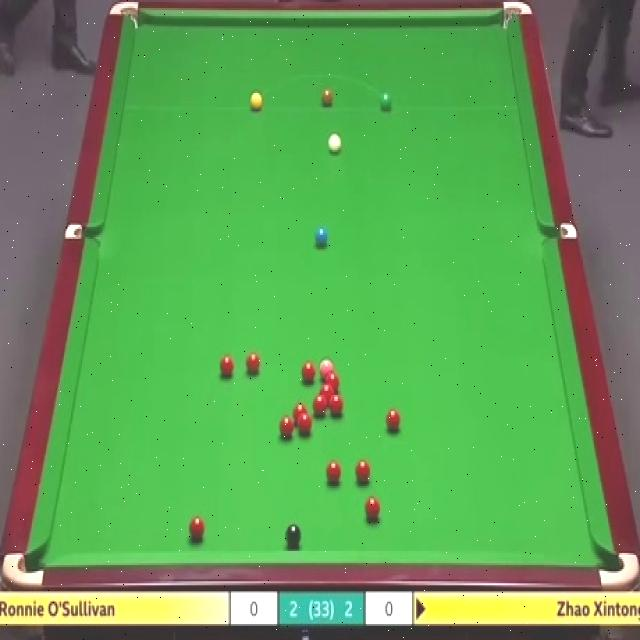black-ball: (284, 521, 302, 545)
blue-ball: (314, 228, 328, 245)
brown-ball: (322, 88, 333, 106)
green-ball: (378, 90, 394, 112)
pink-ball: (315, 360, 333, 375)
red-ball: (385, 405, 401, 432), (189, 517, 204, 545), (312, 394, 328, 418), (298, 410, 314, 434), (218, 354, 234, 378), (363, 495, 378, 520), (354, 458, 369, 481), (328, 463, 342, 487), (247, 352, 263, 371), (280, 418, 294, 438), (329, 391, 342, 411), (318, 383, 332, 401), (302, 361, 314, 382), (325, 373, 339, 390)
white-ball: (327, 134, 342, 152)
yellow-ball: (250, 91, 263, 112)
